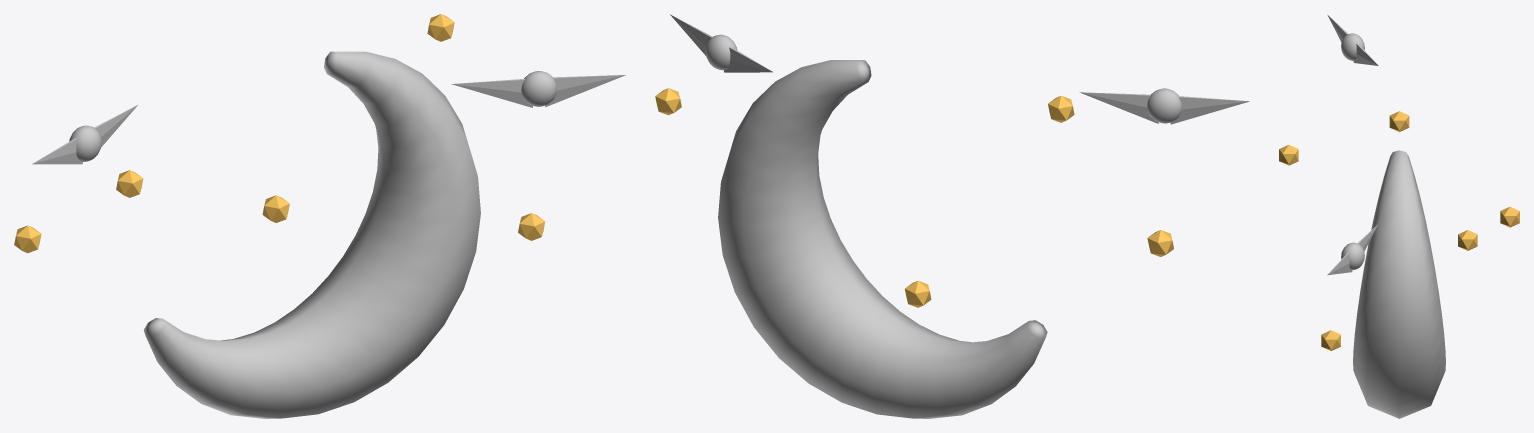
Rendered from CrescentMoon.obj.
3 renders of one model, left to right at view 1: azimuth 30°, elevation 25°; view 2: azimuth 150°, elevation 25°; view 3: azimuth 270°, elevation 25°, orthographic. The views are drawn at different scales.
Parts seen in each view (by area): view 1: MoonhatOrange, Crow, Glow; view 2: MoonhatOrange, Crow, Glow; view 3: MoonhatOrange, Crow, Glow.
Boxes of the visible parts, bbox=[...] form: MoonhatOrange: bbox=[143, 51, 480, 418]; Crow: bbox=[32, 71, 625, 164]; Glow: bbox=[14, 14, 545, 253]; MoonhatOrange: bbox=[718, 60, 1047, 418]; Crow: bbox=[670, 14, 1249, 124]; Glow: bbox=[655, 88, 1173, 307]; MoonhatOrange: bbox=[1353, 150, 1445, 418]; Crow: bbox=[1327, 15, 1378, 275]; Glow: bbox=[1279, 111, 1519, 350].
Size of the model in its own units: 2.23 by 1.33 by 1.04.
